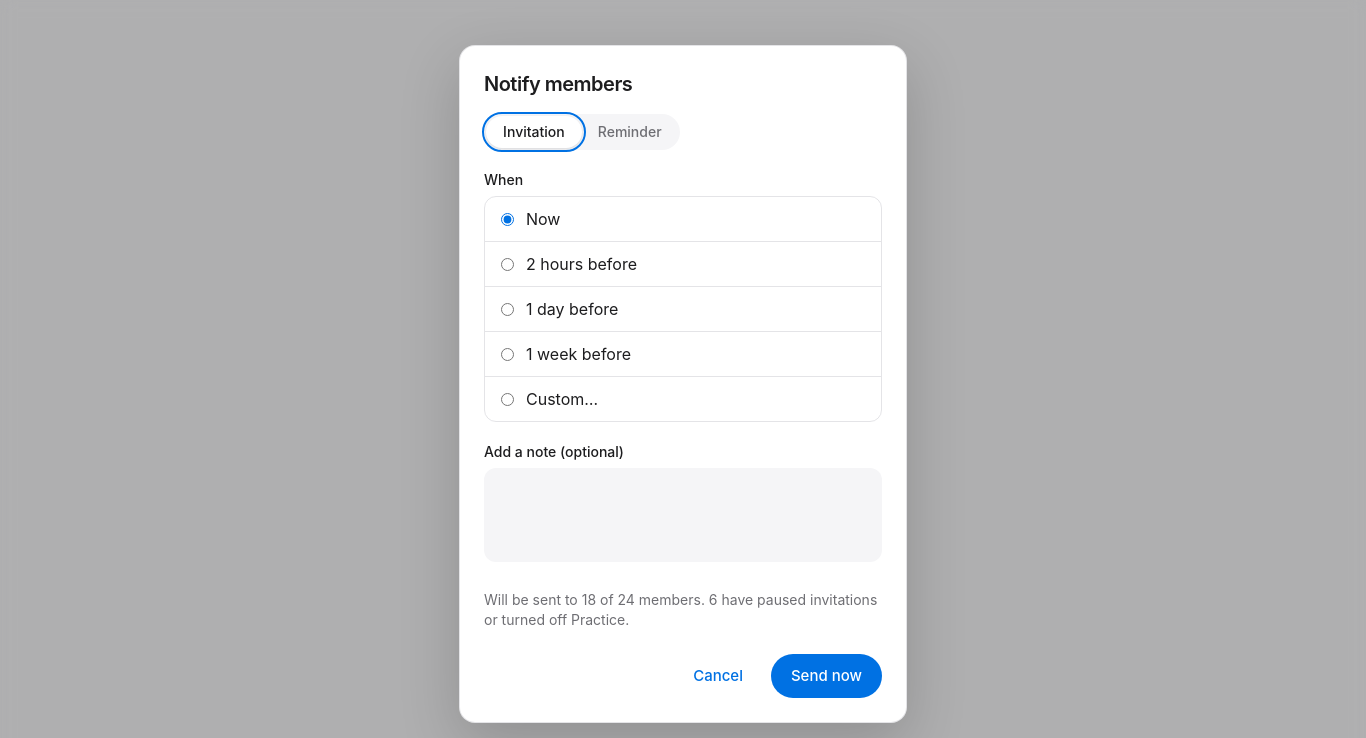
Test case: ScheduleNotificationDialog › reads "Send now" for Now and "Schedule" for anything else
The image size is (1366, 738).
Expected: the button "Send now" is shown, x1=771 y1=654 x2=882 y2=698
Click the radio button named "timing": (508, 309) x1=501 y1=302 x2=514 y2=316
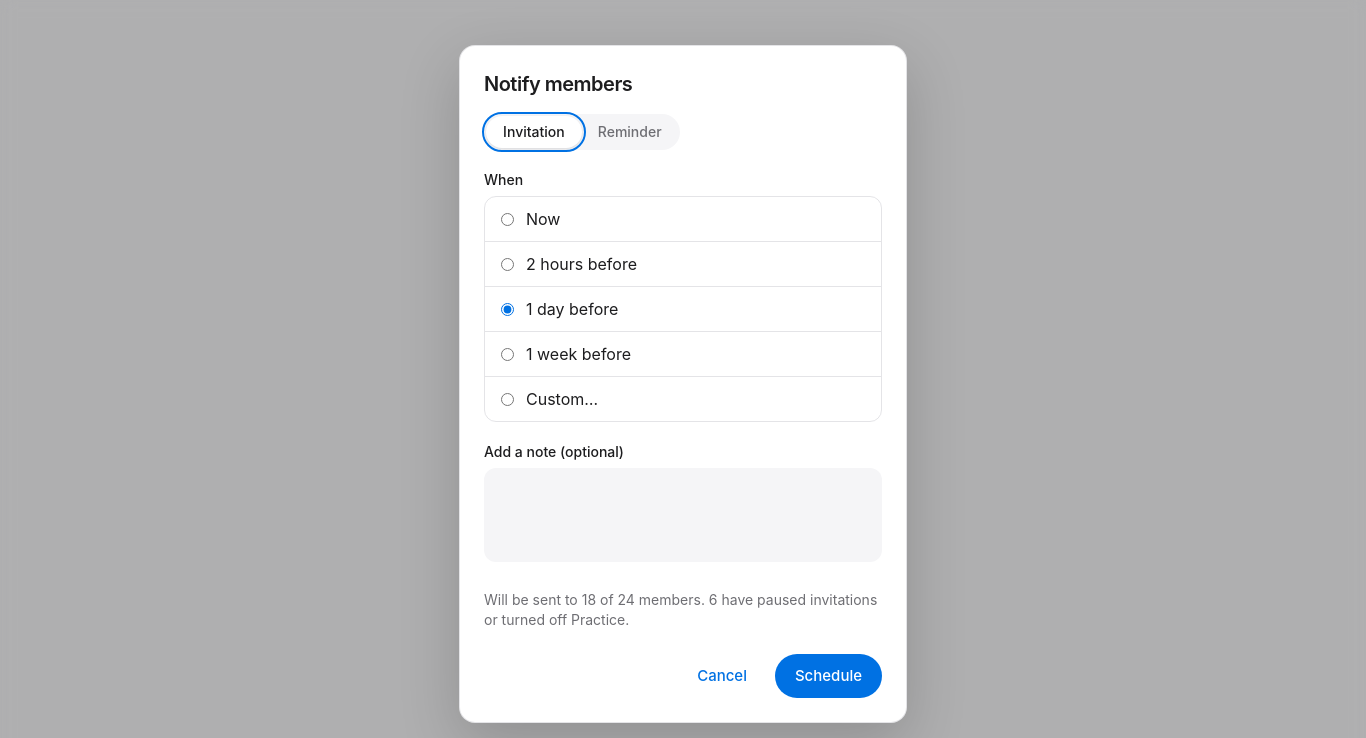
Now the button "Schedule" is shown, box x1=775 y1=654 x2=882 y2=698
Click the radio button named "timing": (508, 399) x1=501 y1=392 x2=514 y2=406
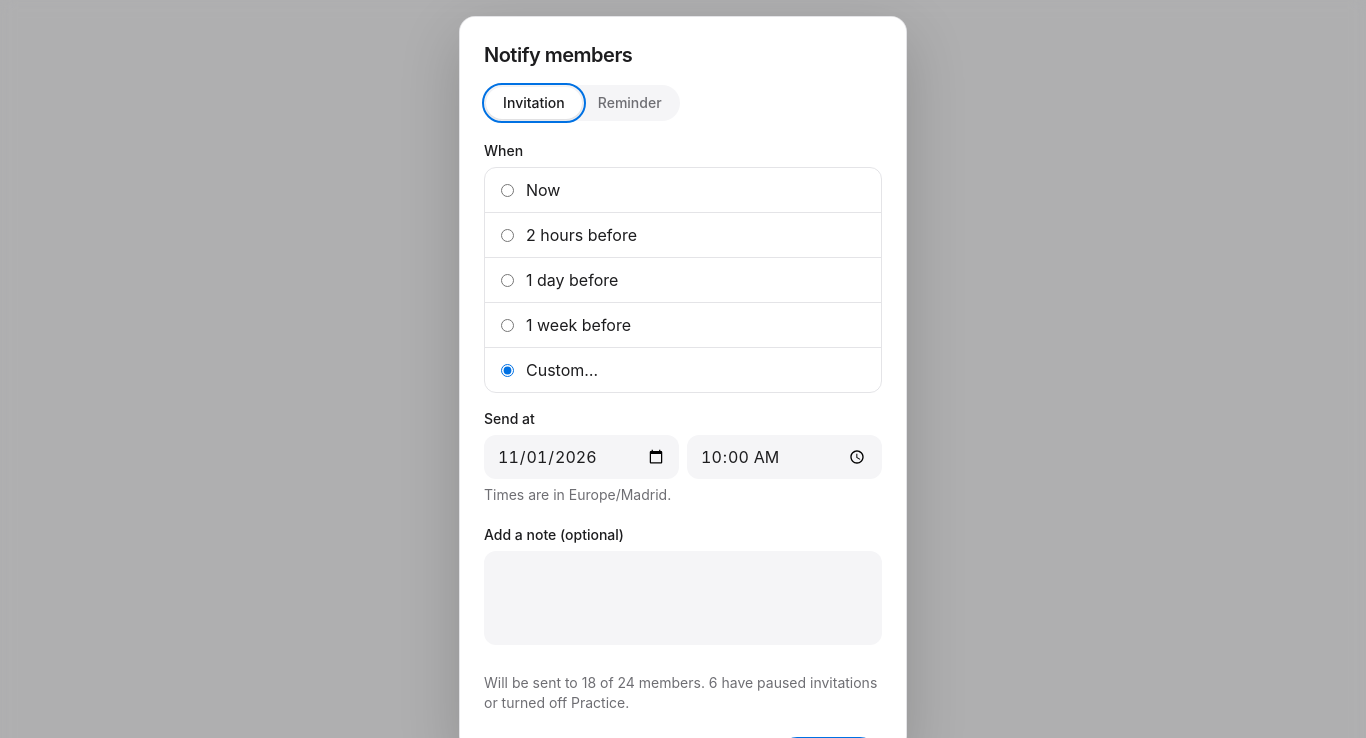
Click the radio button named "timing": (508, 190) x1=501 y1=184 x2=514 y2=196
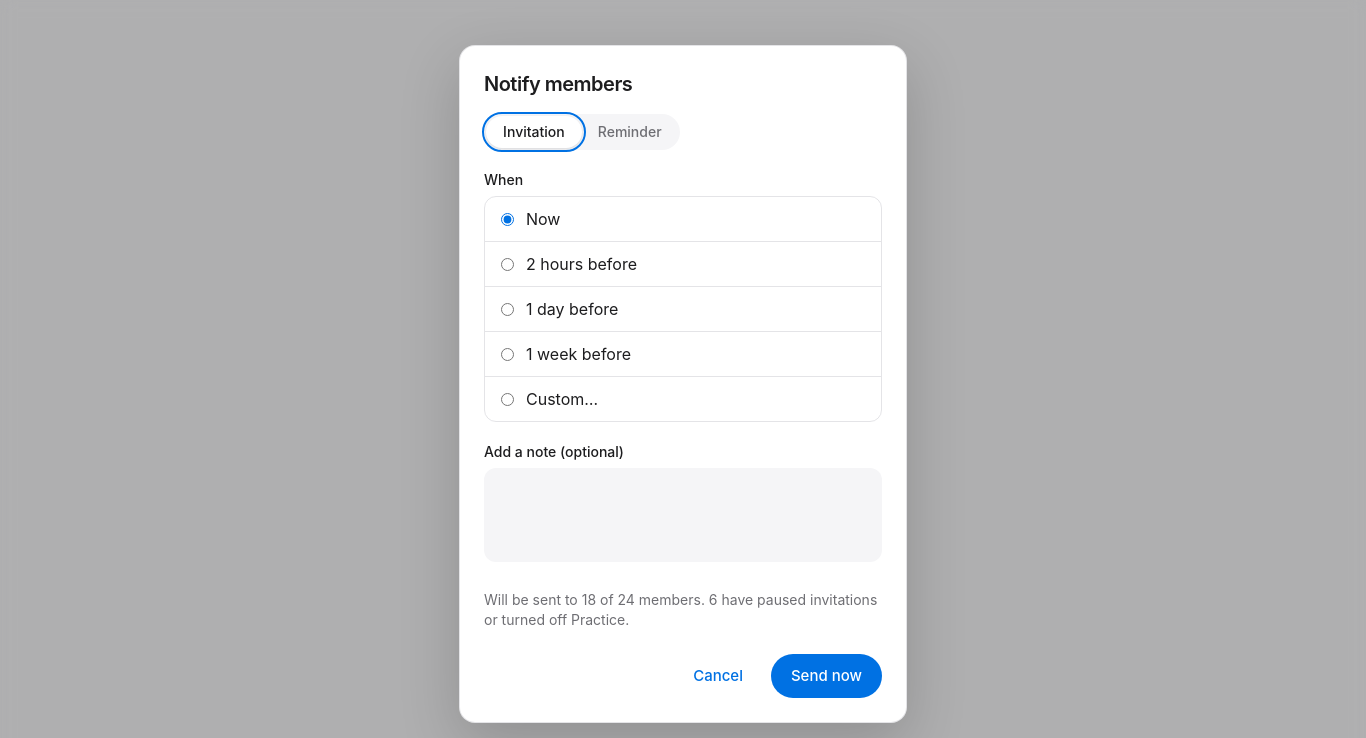
Now the button "Send now" is shown, box x1=771 y1=654 x2=882 y2=698
